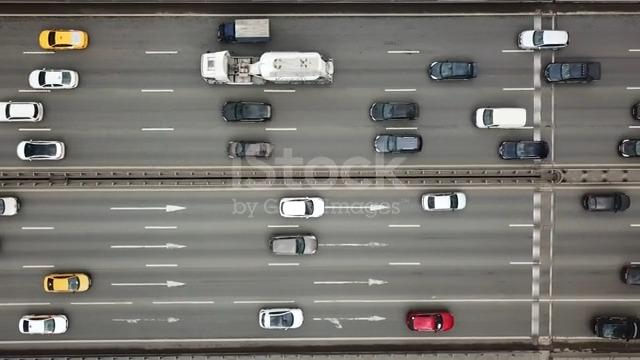Cars: (257, 51, 335, 85), (544, 61, 602, 85), (593, 315, 640, 341), (473, 107, 528, 129), (518, 29, 570, 51), (406, 310, 455, 333), (29, 68, 80, 90), (270, 233, 318, 256), (39, 29, 89, 51), (222, 101, 272, 123), (19, 313, 69, 335), (44, 272, 93, 294), (17, 140, 66, 162), (428, 60, 478, 81), (369, 101, 419, 122), (498, 140, 550, 160), (259, 307, 304, 330), (279, 197, 325, 219), (583, 192, 631, 213), (374, 134, 423, 154), (1, 101, 44, 123), (421, 192, 467, 212), (228, 141, 273, 159), (618, 138, 640, 158), (1, 196, 21, 217), (622, 264, 640, 285)
